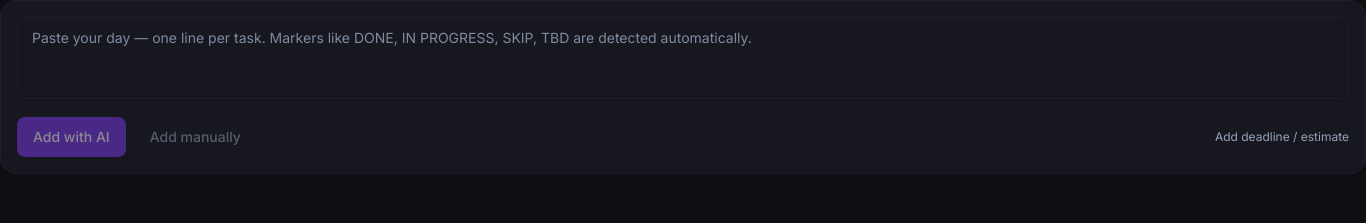
QuickAdd › uses singular wording for a single created task
The image size is (1366, 223).
Type "one thing" into the text box named "New task". click: [683, 58]
box: [17, 17, 1349, 99]
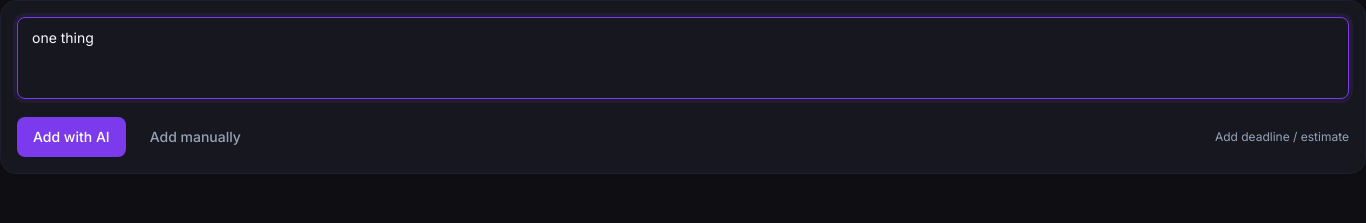
Click the button "Add with AI". click: [71, 137]
box: [17, 117, 126, 157]
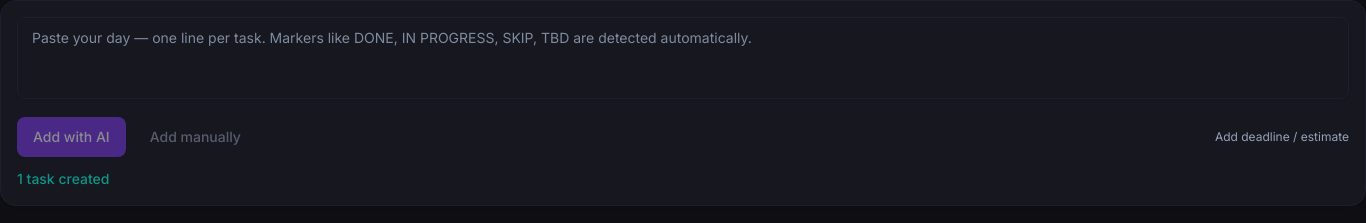
Expected: the text "1 task created" is shown, [17, 170, 110, 187]
